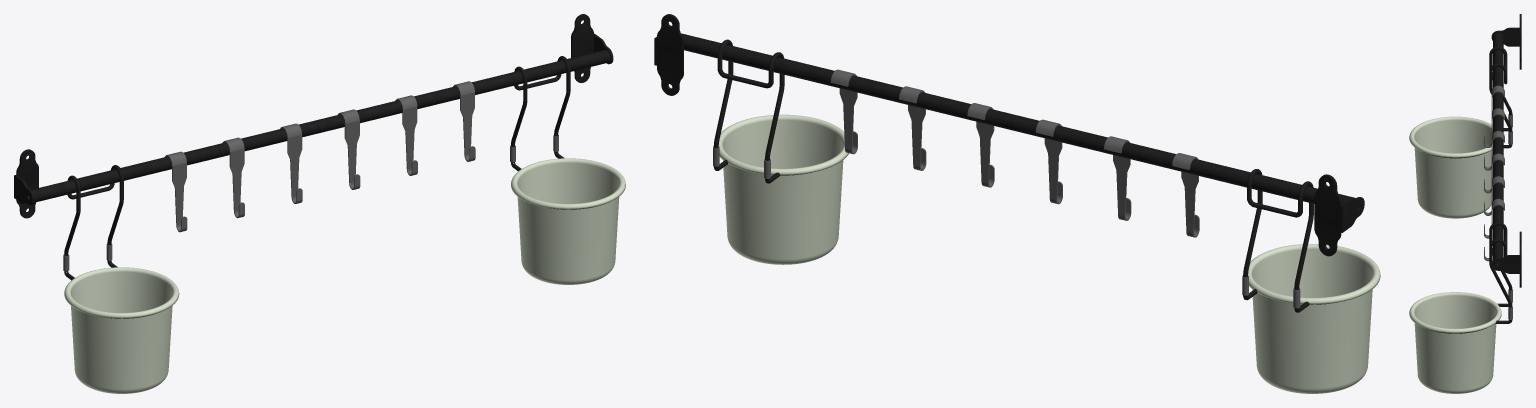
The model's file is 072 - stand divari jadid meshki goldan sabz.glb.
3 renders of one model, left to right at view 1: azimuth 30°, elevation 25°; view 2: azimuth 150°, elevation 25°; view 3: azimuth 270°, elevation 25°, orthographic. The views are drawn at different scales.
Visible parts, largest first — view 1: Group#30 [70591] (×2), Group#11 [70603], Group#3 [98424] (×5), [56045] (×2), [3871], Group#2 [98423], [2656]; view 2: Group#30 [70591] (×2), Group#11 [70603], Group#3 [98424] (×5), [56045] (×2), [3871], [2656], Group#2 [98423]; view 3: Group#30 [70591] (×2), Group#11 [70603], [56045] (×2), Group#3 [98424] (×5), Group#6 [4407], Group#1 [3192], Group#2 [98423], [2656].
Part boxes in pixels (x1,y1,x2,y2): Group#30 [70591] (×2): (64, 158, 625, 393); Group#11 [70603]: (31, 49, 610, 202); Group#3 [98424] (×5): (165, 81, 475, 232); [56045] (×2): (64, 56, 602, 318); [3871]: (571, 14, 593, 82); Group#2 [98423]: (280, 123, 302, 203); [2656]: (16, 149, 38, 218); Group#30 [70591] (×2): (718, 114, 1380, 393); Group#11 [70603]: (681, 33, 1355, 204); Group#3 [98424] (×5): (830, 69, 1199, 237); [56045] (×2): (713, 39, 1333, 312); [3871]: (657, 14, 683, 95); [2656]: (1314, 174, 1341, 256); Group#2 [98423]: (1035, 119, 1062, 204); Group#30 [70591] (×2): (1409, 116, 1501, 393); Group#11 [70603]: (1493, 33, 1503, 265); [56045] (×2): (1424, 46, 1512, 333); Group#3 [98424] (×5): (1484, 85, 1504, 261); Group#6 [4407]: (1491, 255, 1521, 273); Group#1 [3192]: (1491, 27, 1519, 46); Group#2 [98423]: (1484, 131, 1504, 193); [2656]: (1519, 14, 1521, 69).
Bounding box in the file's own units: 0.806 × 0.2792 × 0.168.
4 materials, 2 textured.
